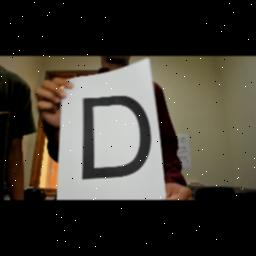d: (76, 94, 158, 184)
